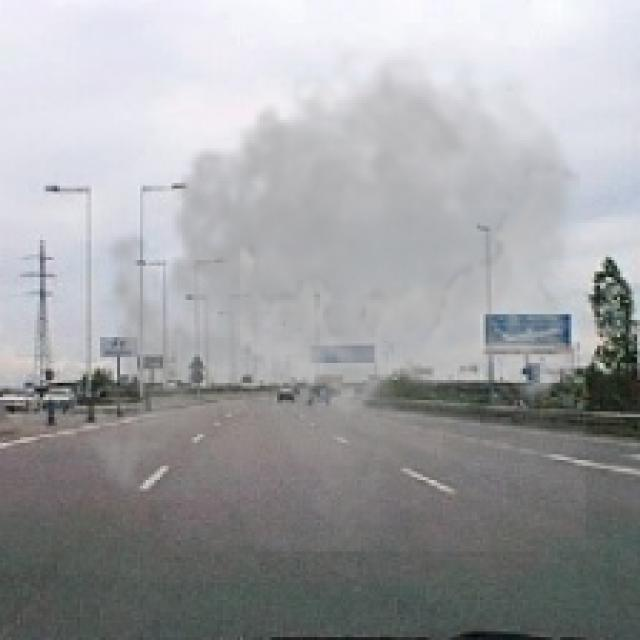smoke: (71, 34, 586, 552)
